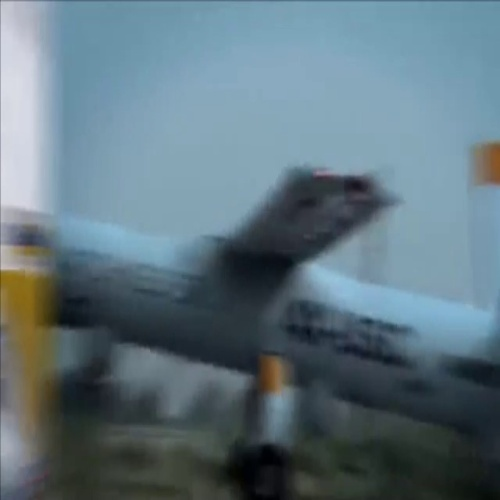uav753: (1, 164, 500, 491)
